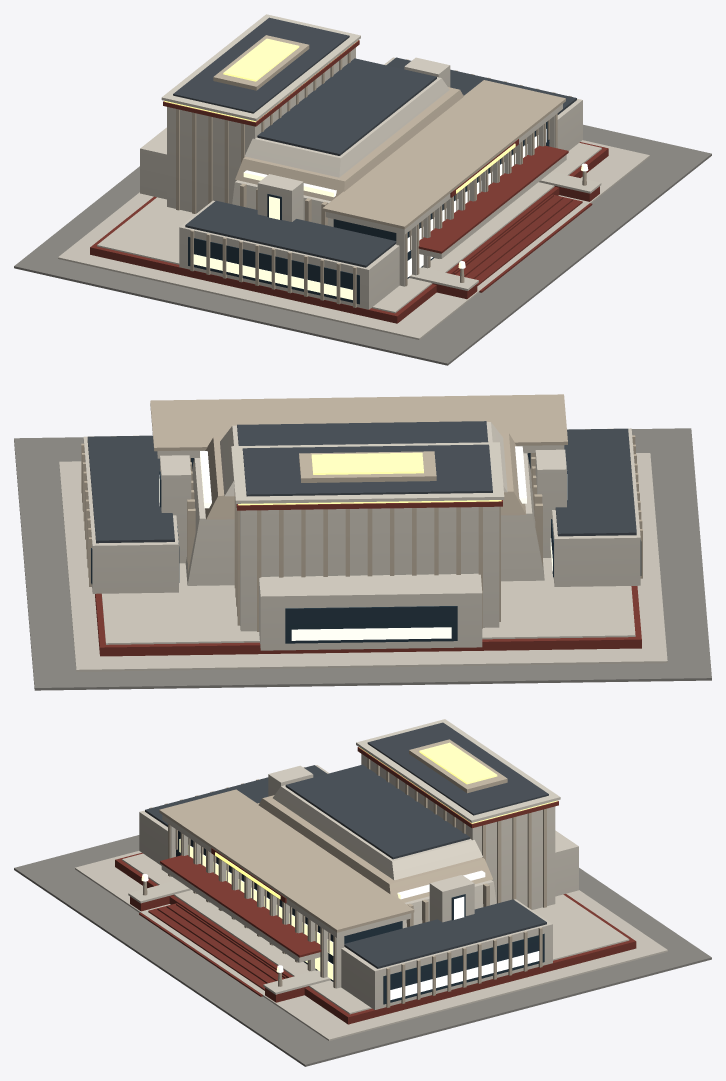
The model's file is nha_hat_hoa_binh.glb.
3 renders of one model, top to bottom at view 1: azimuth 30°, elevation 25°; view 2: azimuth 150°, elevation 25°; view 3: azimuth 270°, elevation 25°, orthographic. The views are drawn at different scales.
Parts seen in each view (by area): view 1: nha_hat_hoa_binh; view 2: nha_hat_hoa_binh; view 3: nha_hat_hoa_binh.
Boxes of the visible parts, <box> form: nha_hat_hoa_binh: <box>14,14,711,365</box>; nha_hat_hoa_binh: <box>14,394,711,690</box>; nha_hat_hoa_binh: <box>14,719,711,1066</box>.
Bounding box in the file's own units: 144 × 28 × 140.
